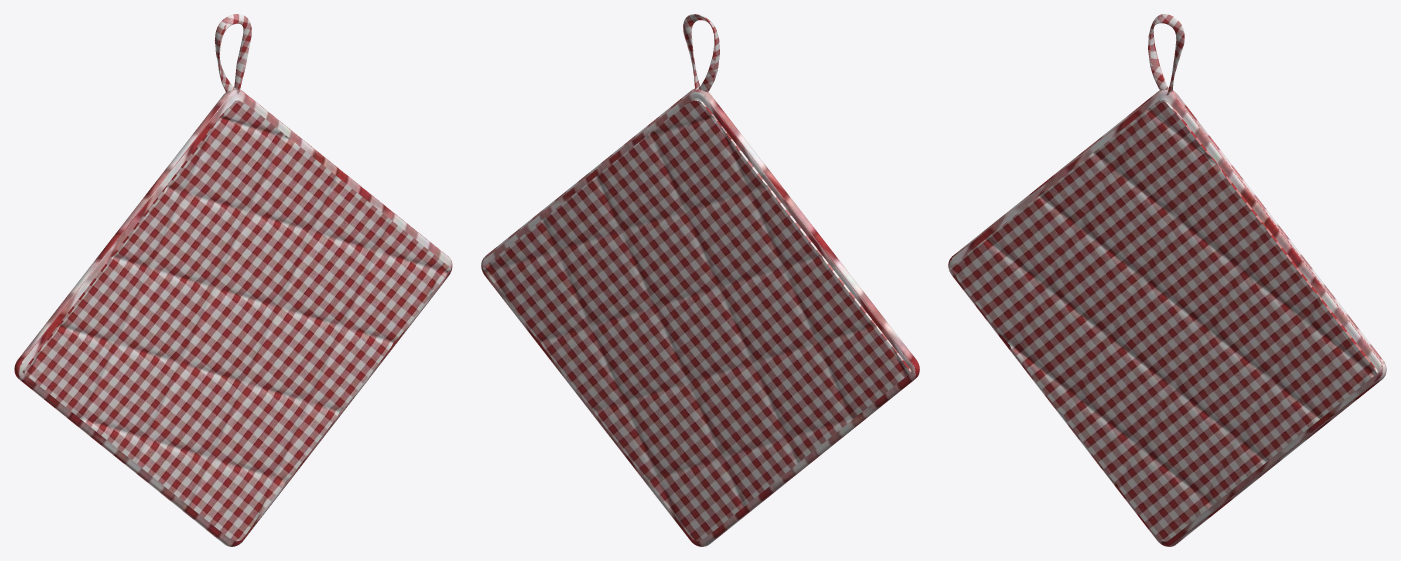
Rendered from holder.fbx.
3 views of the same model, side by side, from view 1: azimuth 30°, elevation 25°; view 2: azimuth 150°, elevation 25°; view 3: azimuth 330°, elevation 25° (orthographic).
Visible parts, largest first — view 1: prihvatka_1; view 2: prihvatka_1; view 3: prihvatka_1.
Boxes of the visible parts, x1,y1,x2,y2 form: prihvatka_1: (14,14,452,546); prihvatka_1: (481,14,919,546); prihvatka_1: (948,14,1386,546).
Bounding box in the file's own units: 23.46 × 27.28 × 0.7967.
1 material, 1 textured.
